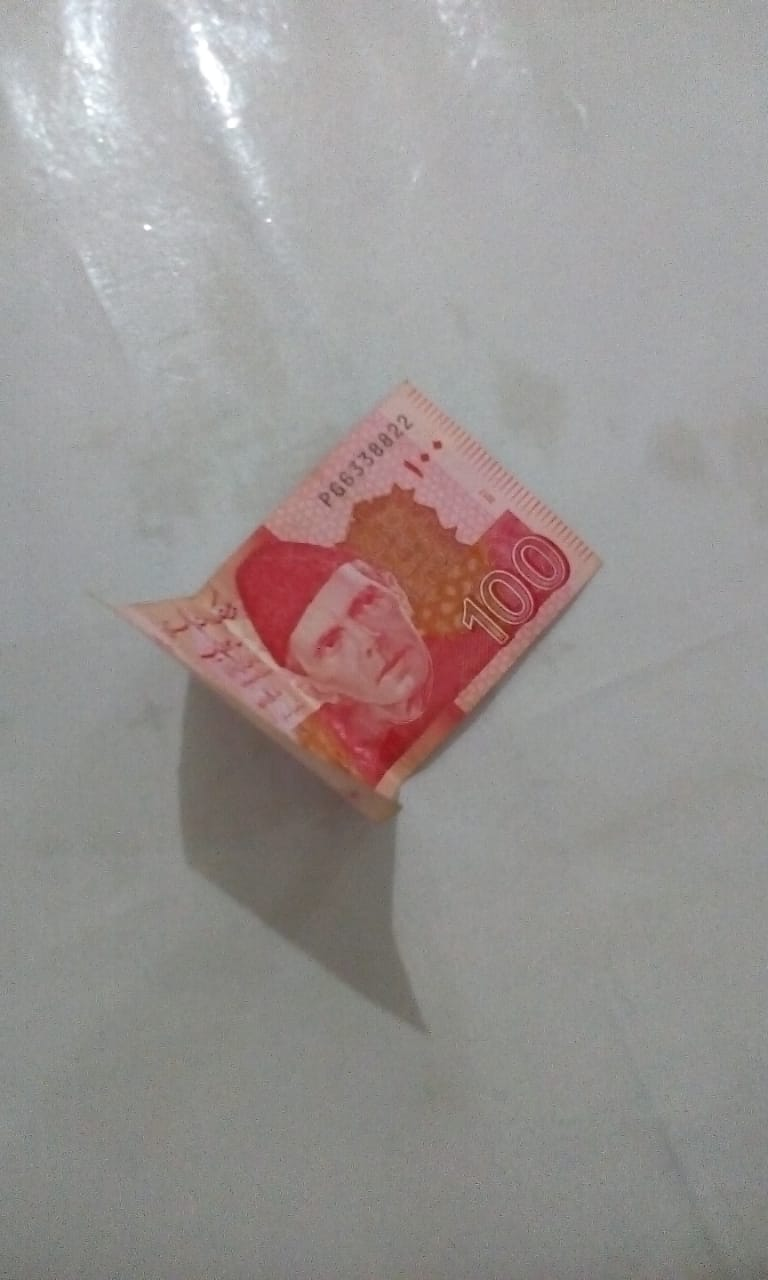100 rupee: (41, 310, 624, 861)
